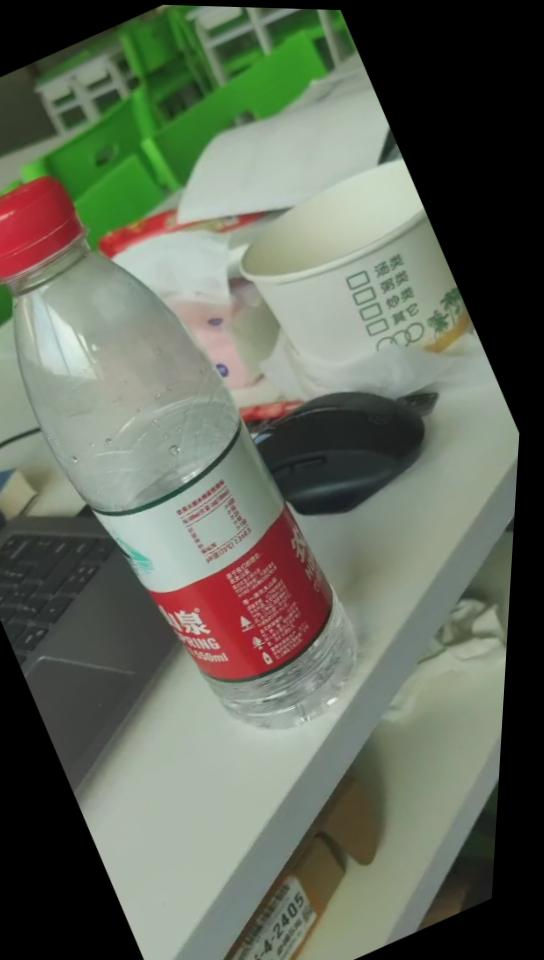plastic: (0, 164, 423, 727)
